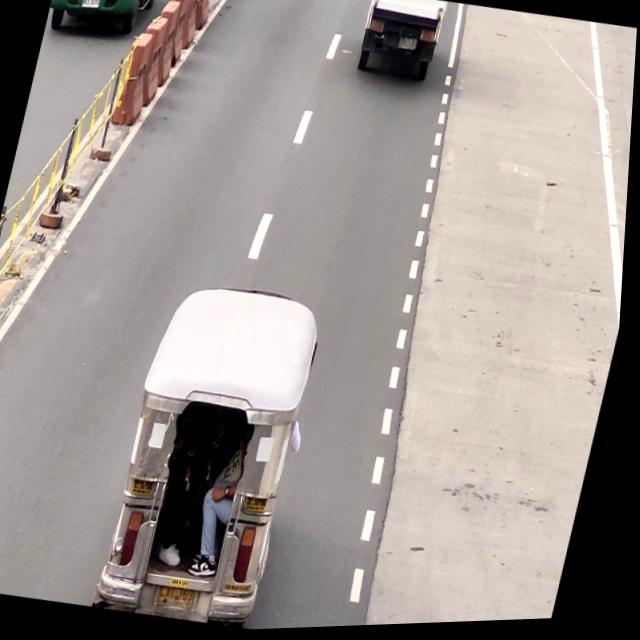Jeep: (94, 276, 335, 636)
License-Plate: (161, 583, 205, 616), (398, 38, 419, 55)
